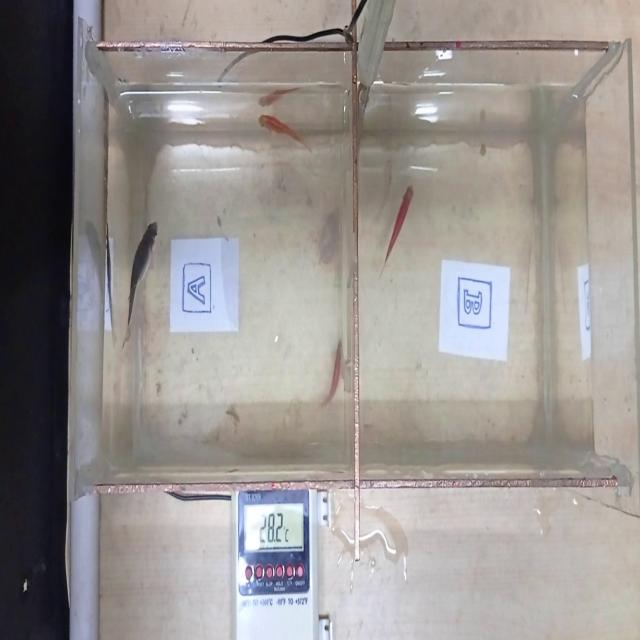Fish A1: (120, 200, 160, 354)
Fish A2: (257, 103, 324, 170)
Fish A3: (319, 325, 349, 420)
Fish B: (382, 175, 426, 282)
